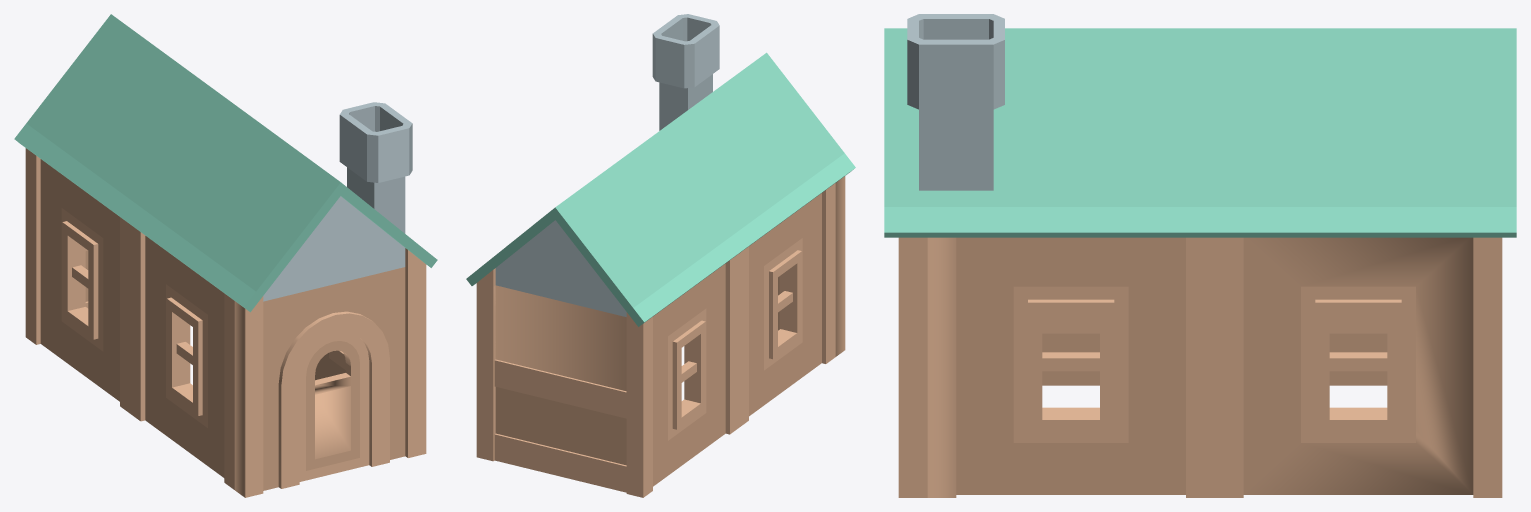
Rendered from BasicHouse7.fbx.
3 views of the same model, side by side, from view 1: azimuth 30°, elevation 25°; view 2: azimuth 150°, elevation 25°; view 3: azimuth 270°, elevation 25° (orthographic). The views are drawn at different scales.
Visible parts, largest first — view 1: wallWoodDetailHorizontal.001, roofGable.004, chimneyTop.003; view 2: wallWoodDetailHorizontal.001, roofGable.004, chimneyTop.003; view 3: wallWoodDetailHorizontal.001, roofGable.004, chimneyTop.003.
Boxes of the visible parts, x1,y1,x2,y2 form: wallWoodDetailHorizontal.001: (25, 148, 426, 497); roofGable.004: (14, 14, 437, 312); chimneyTop.003: (339, 102, 412, 233); wallWoodDetailHorizontal.001: (476, 176, 845, 497); roofGable.004: (466, 52, 855, 326); chimneyTop.003: (652, 14, 719, 130); wallWoodDetailHorizontal.001: (898, 237, 1502, 497); roofGable.004: (884, 28, 1516, 237); chimneyTop.003: (907, 14, 1004, 190).
Size of the model in its own units: 107 by 173 by 220.
